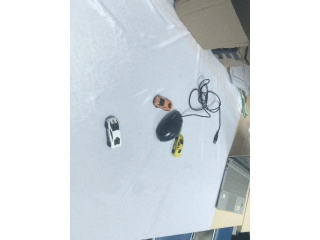mouse: (156, 110, 183, 142)
toy_car: (105, 116, 121, 148), (153, 95, 173, 111), (172, 134, 184, 157)
